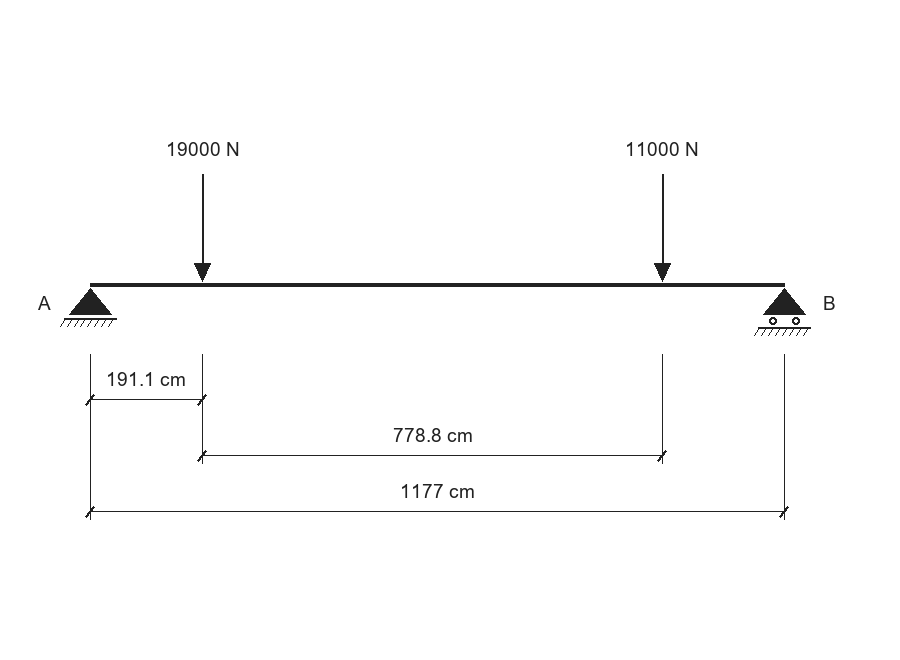pin_support: (60, 288, 117, 327)
point_load: (194, 174, 211, 282), (654, 174, 671, 282)
roller_support: (754, 288, 811, 336)
